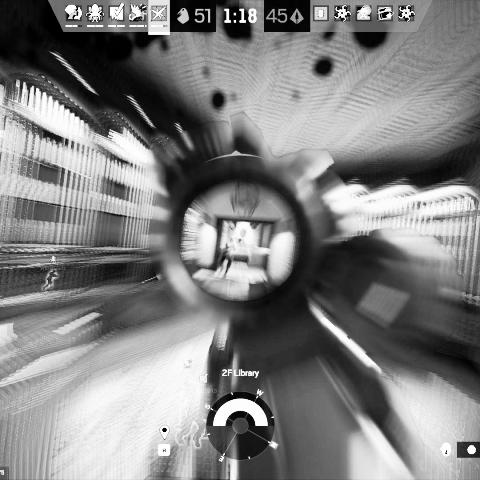Character: (217, 237, 235, 278)
Friend_label: (168, 357, 206, 379), (189, 374, 218, 394), (40, 255, 68, 272)
Head: (230, 237, 234, 244)
